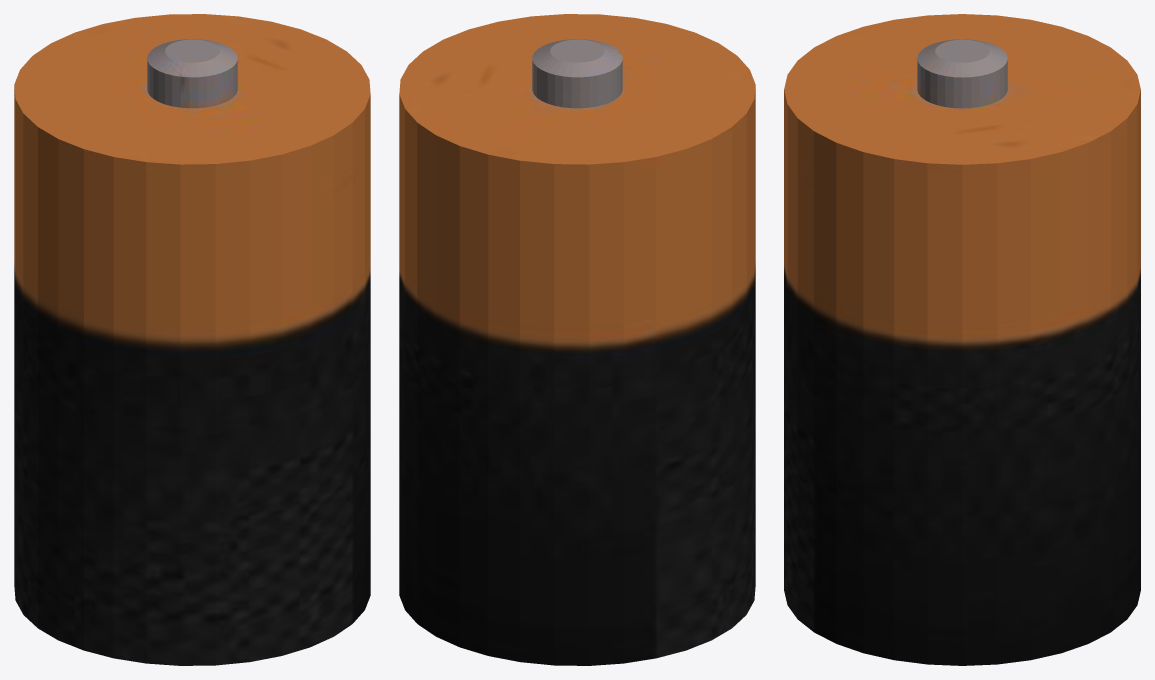
Rendered from battery.gltf.
3 views of the same model, side by side, from view 1: azimuth 30°, elevation 25°; view 2: azimuth 150°, elevation 25°; view 3: azimuth 270°, elevation 25° (orthographic).
Parts seen in each view (by area): view 1: Cylinder; view 2: Cylinder; view 3: Cylinder.
Part boxes in pixels (<box>): Cylinder: <box>14,14,370,665</box>; Cylinder: <box>399,14,755,665</box>; Cylinder: <box>784,14,1140,665</box>.
Size of the model in its own units: 0.0324 by 0.0573 by 0.0324.
1 material, 1 textured.
